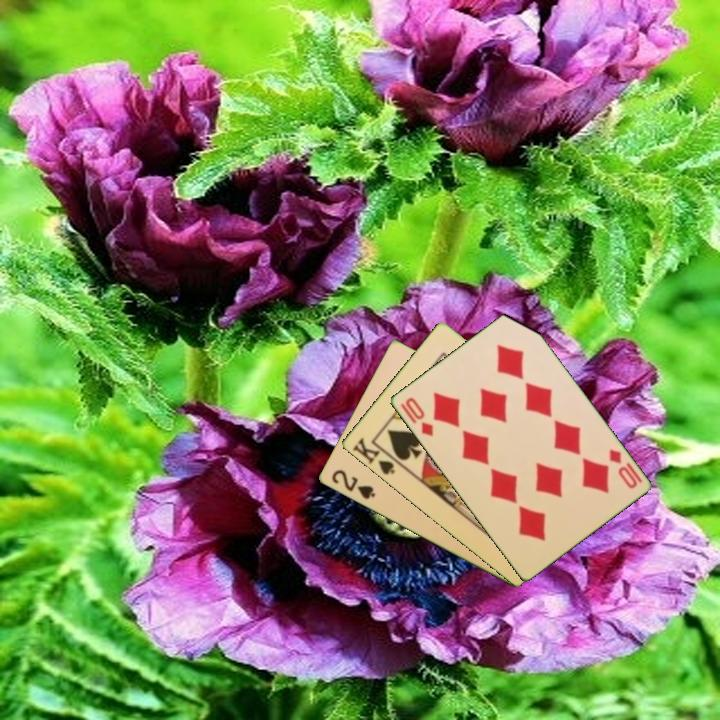10d: (605, 445, 645, 492), (401, 394, 436, 440)
2s: (327, 466, 378, 502)
Ks: (349, 434, 397, 478)
